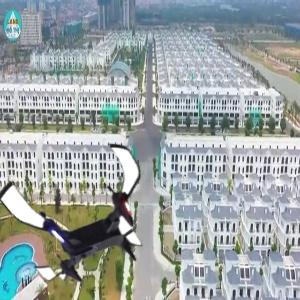drone: (8, 135, 164, 291)
